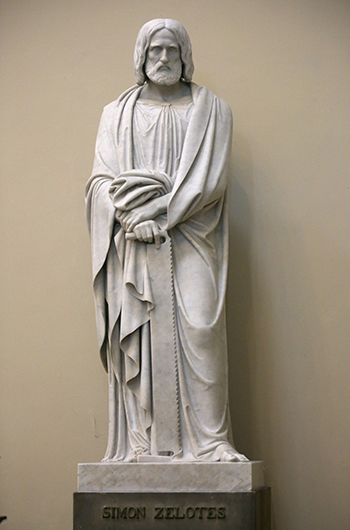person-like: (79, 14, 246, 464)
